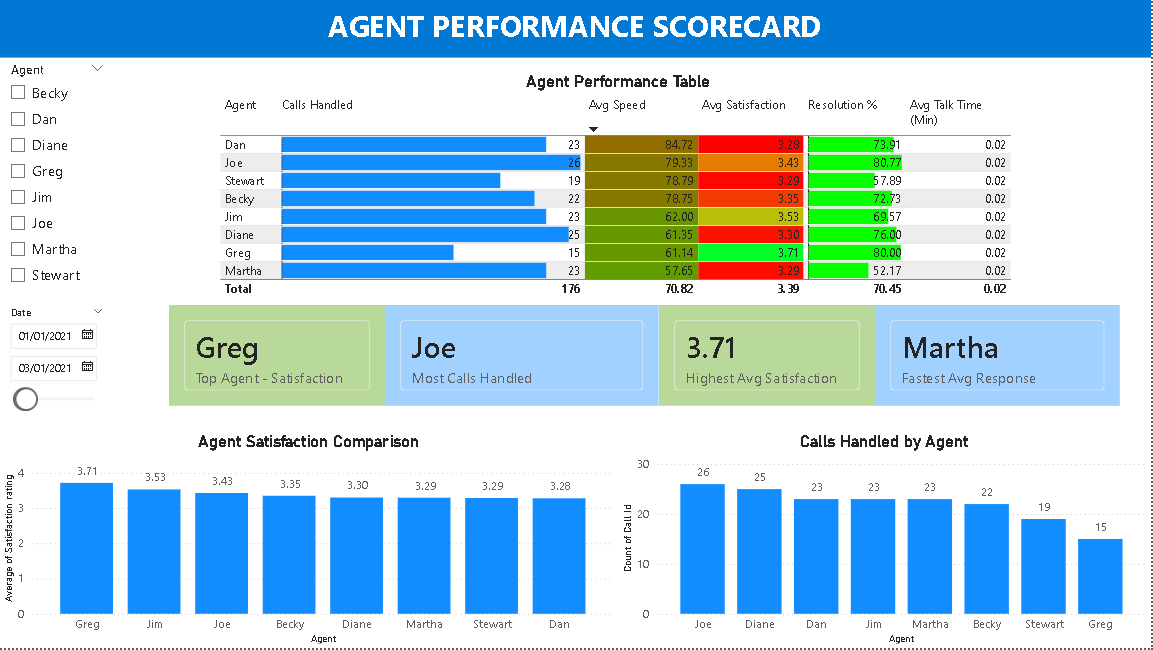

The dashboard page shown, as its layout file describes it:
{"tool":"powerbi","page":{"name":"Page 3 - Agent Performance","canvas":[1280,720],"ordinal":2},"visuals":[{"type":"textbox","box":[0,0,1280,64],"z":0},{"type":"slicer","fields":{"Values":["CallLog.Agent"]},"box":[0,64,128,272],"z":1000},{"type":"slicer","fields":{"Values":["CallLog.Date"]},"box":[0,336,128,144],"z":2000},{"type":"tableEx","title":"Agent Performance Table","fields":{"Values":["CallLog.Agent","CallLog.Call Id","CallLog.Speed of answer in seconds","CallLog.Avg Satisfaction","CallLog.Resolution Rate %","CallLog.Avg Talk Time (Min)"]},"box":[240,80,896,256],"z":3000},{"type":"cardVisual","fields":{"Data":["CallLog.Top Agent Satisfaction"]},"box":[188.9,338.6,240,112],"z":4000},{"type":"cardVisual","fields":{"Data":["CallLog.Most Calls Agent"]},"box":[428.9,338.6,304,112],"z":5000},{"type":"cardVisual","fields":{"Data":["CallLog.Highest Satisfaction"]},"box":[732.9,338.6,240,112],"z":6000},{"type":"cardVisual","fields":{"Data":["CallLog.Fastest Agent"]},"box":[972.9,338.6,272,112],"z":7000},{"type":"clusteredColumnChart","title":"Agent Satisfaction Comparison","fields":{"Category":["CallLog.Agent"],"Y":["CallLog.Satisfaction rating"]},"box":[0,480,688,240],"z":8000},{"type":"clusteredColumnChart","title":"Calls Handled by Agent","fields":{"Category":["CallLog.Agent"],"Y":["CallLog.Call Id"]},"box":[688,480,592,240],"z":9000}]}

Visuals, with their boxes on the page's 1280x720 design canvas (x1, y1, x2, y2). These are canvas units, not pixel positions in the 1153x650 screenshot, which may show the page scaled, cropped or inside an application window:
textbox: 0, 0, 1280, 64
slicer - CallLog.Agent: 0, 64, 128, 336
slicer - CallLog.Date: 0, 336, 128, 480
"Agent Performance Table" tableEx: 240, 80, 1136, 336
cardVisual - CallLog.Top Agent Satisfaction: 189, 339, 429, 451
cardVisual - CallLog.Most Calls Agent: 429, 339, 733, 451
cardVisual - CallLog.Highest Satisfaction: 733, 339, 973, 451
cardVisual - CallLog.Fastest Agent: 973, 339, 1245, 451
"Agent Satisfaction Comparison" clusteredColumnChart: 0, 480, 688, 720
"Calls Handled by Agent" clusteredColumnChart: 688, 480, 1280, 720
